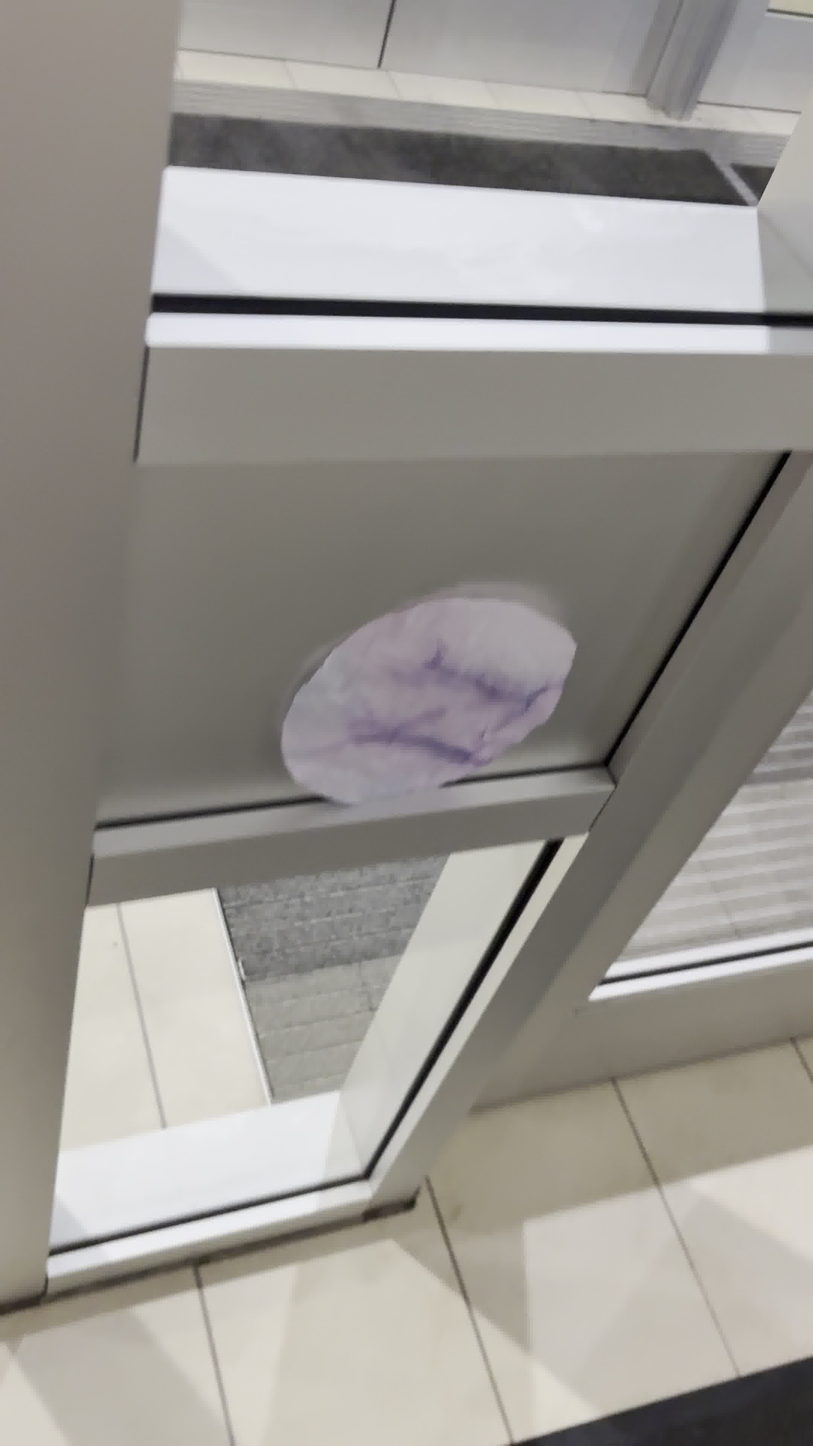Target: (274, 590, 583, 809)
